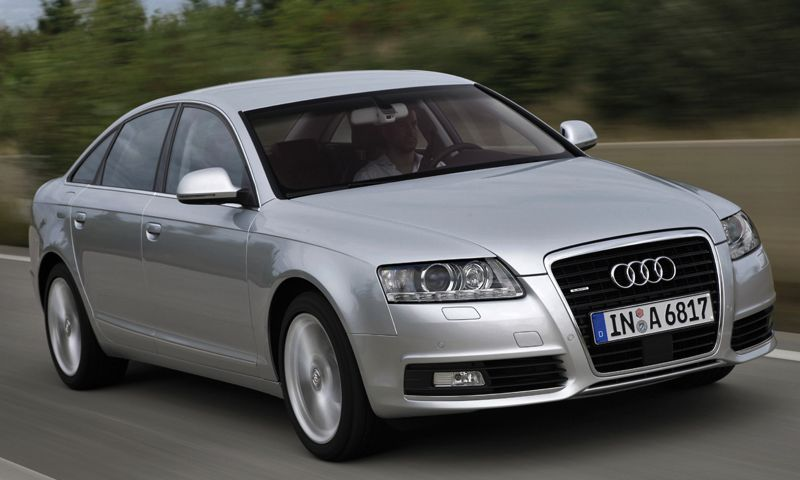audi: (604, 252, 685, 291)
